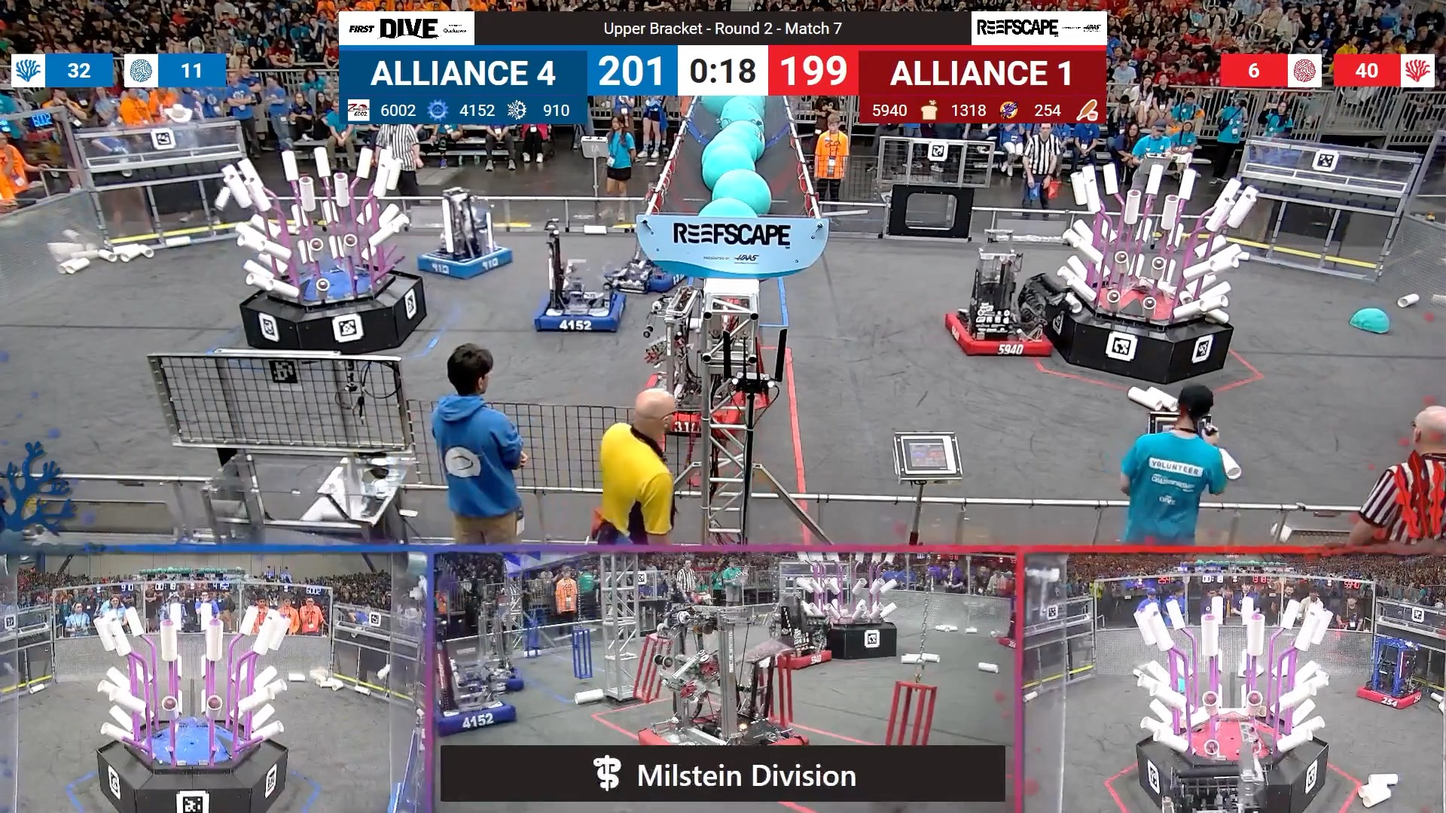bumpers: (938, 308, 1060, 365), (531, 287, 631, 338), (423, 695, 523, 740), (407, 244, 515, 284), (608, 264, 690, 296), (1349, 683, 1427, 713), (457, 670, 528, 698), (774, 646, 839, 669)
